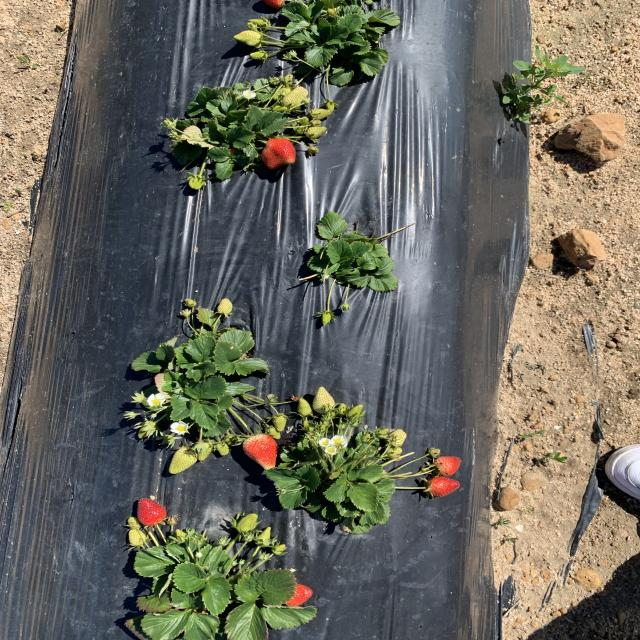unripe: (243, 433, 283, 473), (261, 137, 298, 170), (132, 498, 168, 526), (279, 581, 316, 608), (427, 473, 461, 498), (433, 456, 463, 475), (261, 0, 285, 11)
